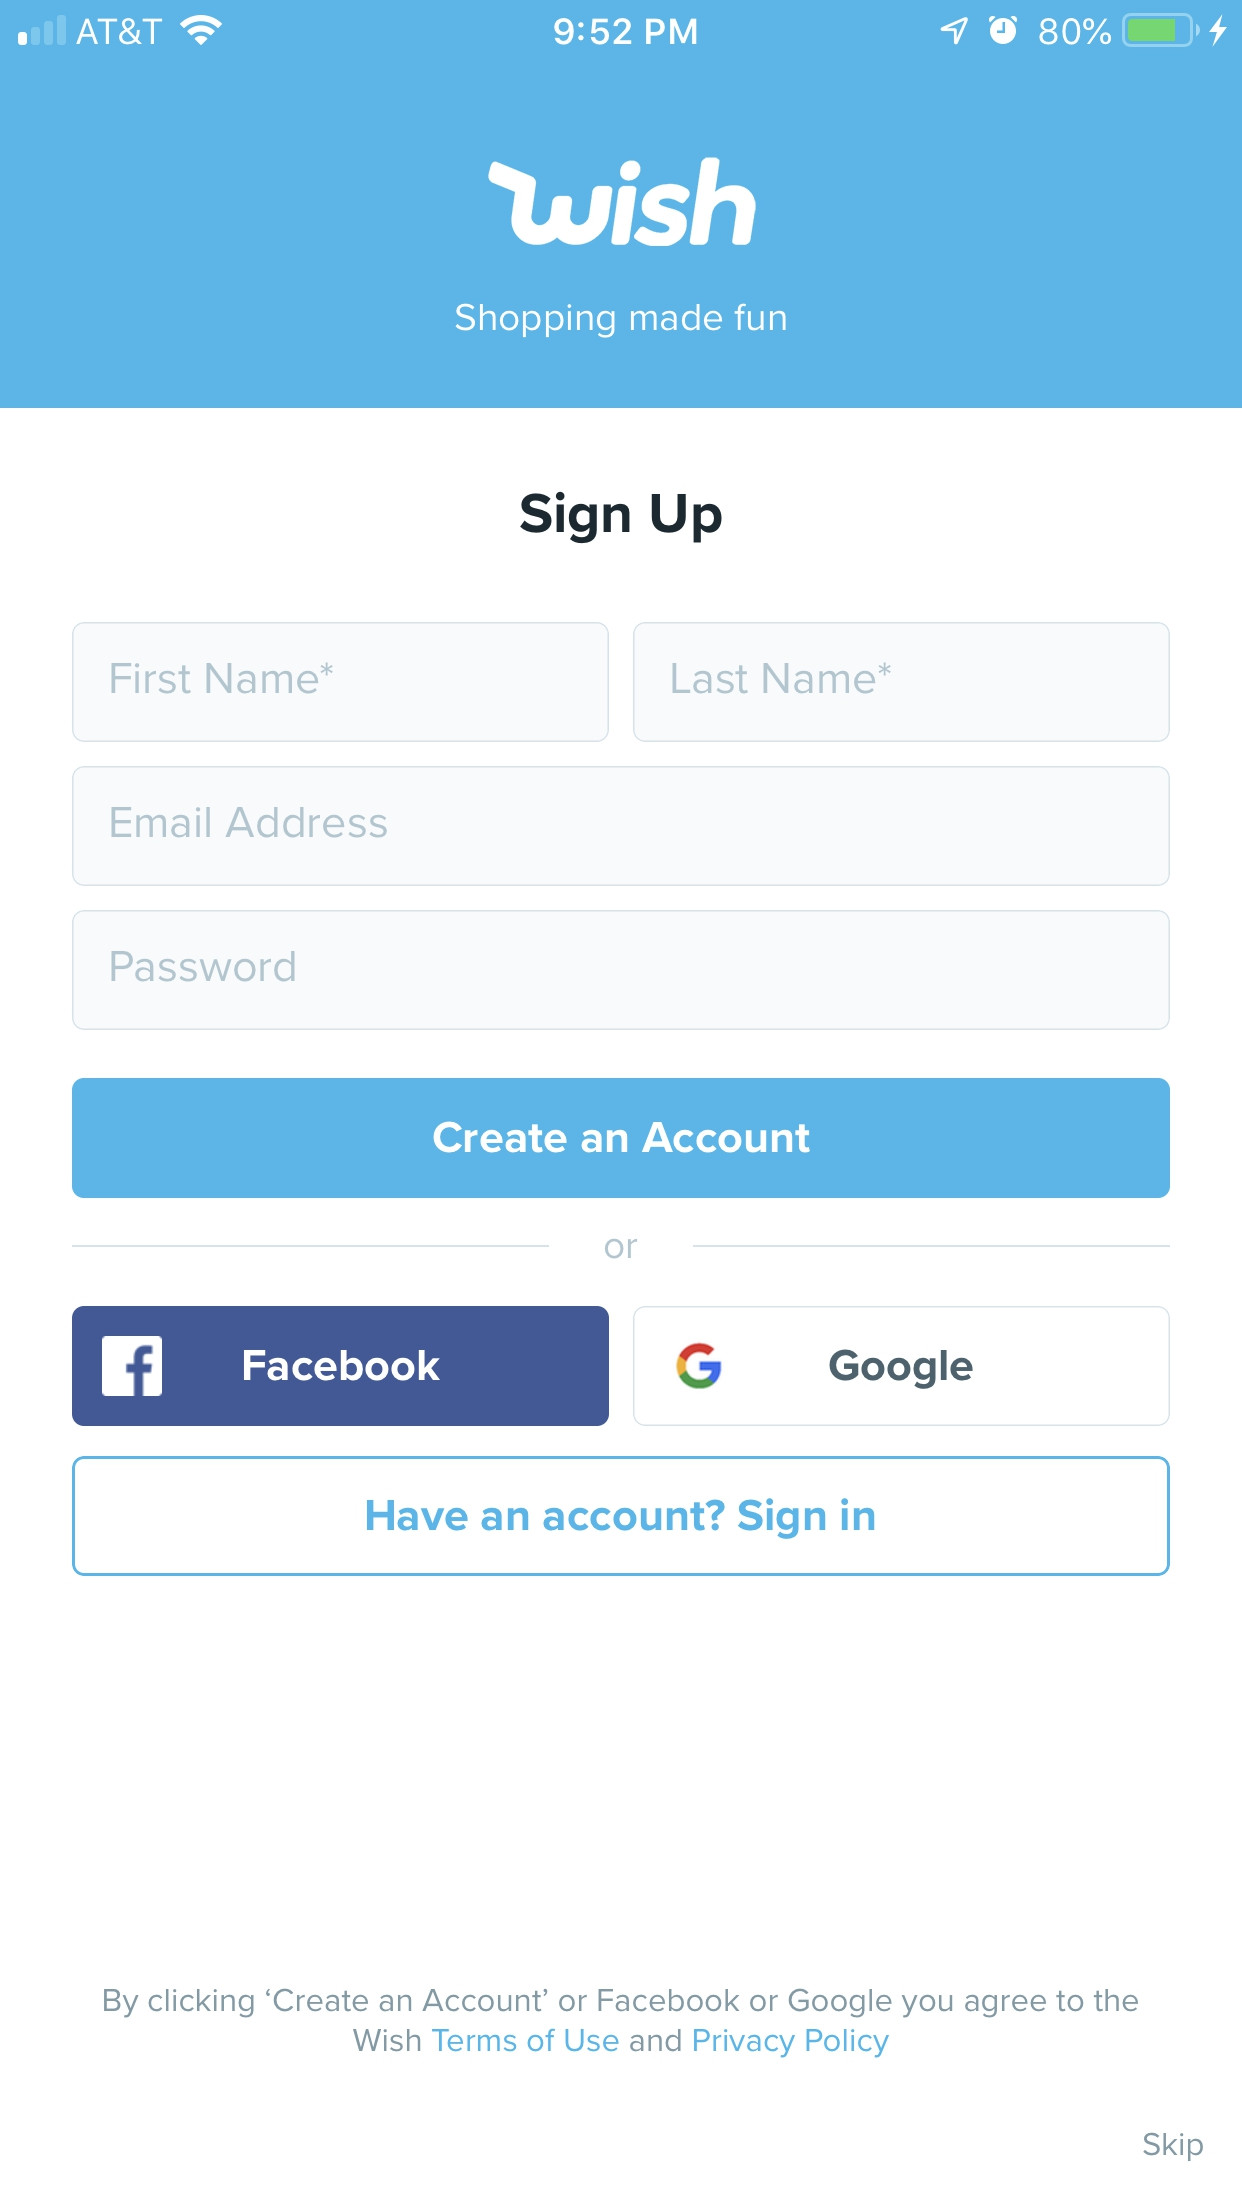EditText: (71, 910, 1171, 1031), (71, 766, 1171, 887), (632, 622, 1171, 743), (73, 622, 610, 743)
Image: (488, 156, 757, 247)
Text: (105, 1987, 1139, 2059), (455, 303, 787, 340), (522, 491, 723, 544), (111, 807, 390, 839), (111, 663, 334, 695), (672, 663, 892, 695), (111, 951, 296, 983), (1143, 2131, 1204, 2163), (605, 1237, 638, 1259)
TextButton: (71, 1456, 1171, 1577), (71, 1078, 1171, 1200), (632, 1306, 1171, 1427), (71, 1306, 610, 1427)
UpperTaskBar: (2, 2, 1242, 50)
